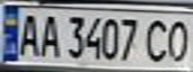0: (100, 15, 121, 61)
3: (63, 12, 84, 60)
4: (81, 14, 103, 61)
7: (118, 15, 142, 62)
A: (15, 10, 42, 57), (36, 11, 60, 58)
C: (142, 16, 172, 64)
O: (163, 16, 193, 64)
